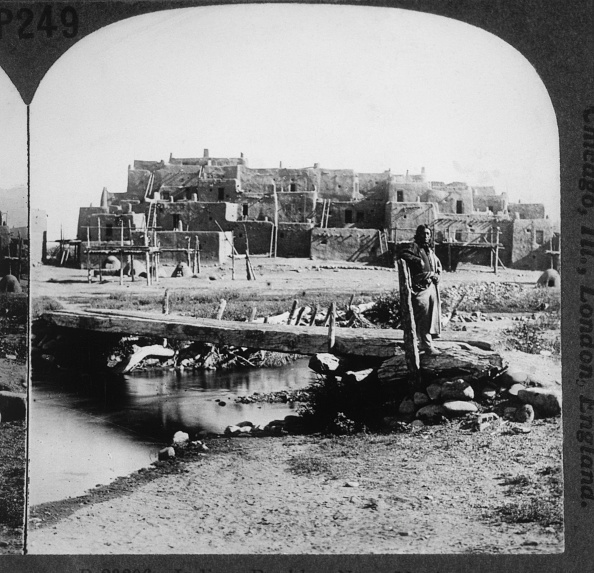em pe: (388, 197, 443, 367)
